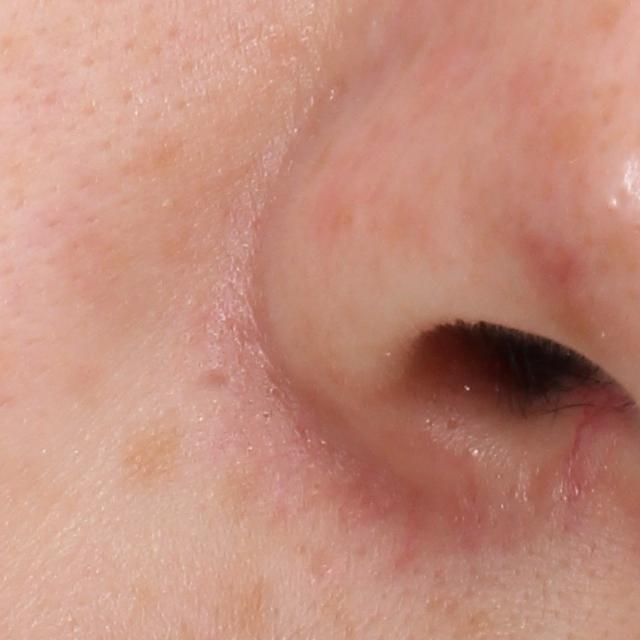atrophic_scar: (193, 364, 234, 394)
